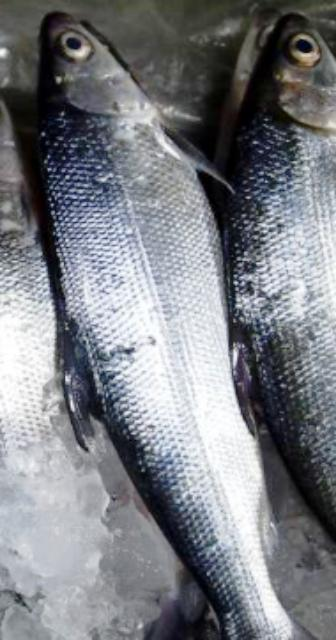Healthy Fish: (34, 12, 310, 640)
